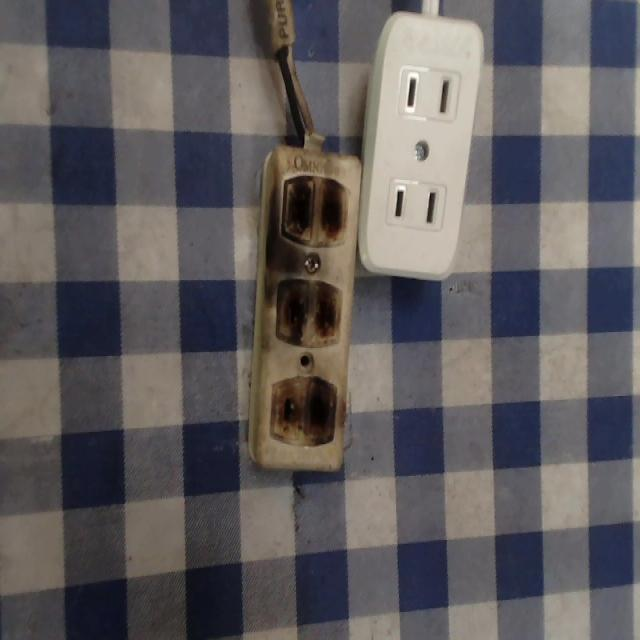-: (273, 272, 347, 352), (271, 374, 339, 446), (280, 172, 347, 244)
